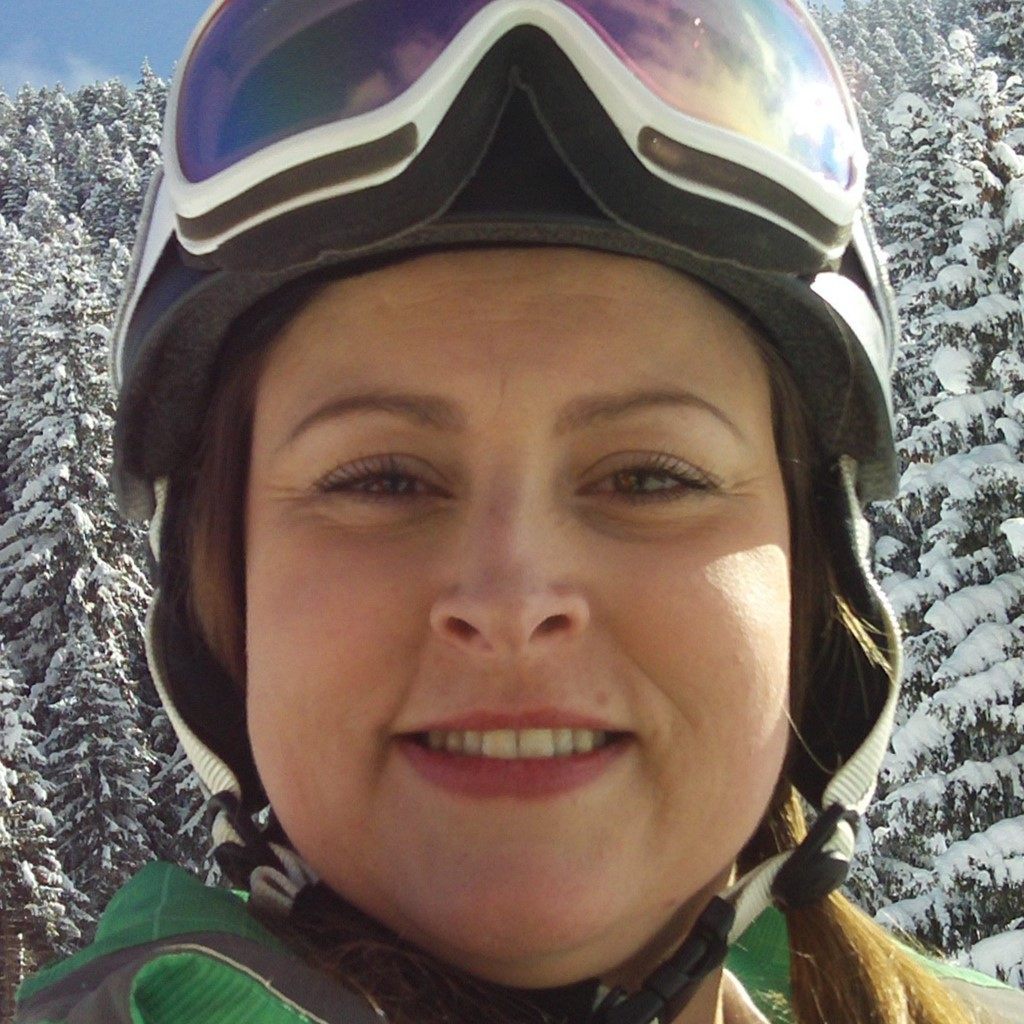sin_mascara: (216, 200, 817, 995)
